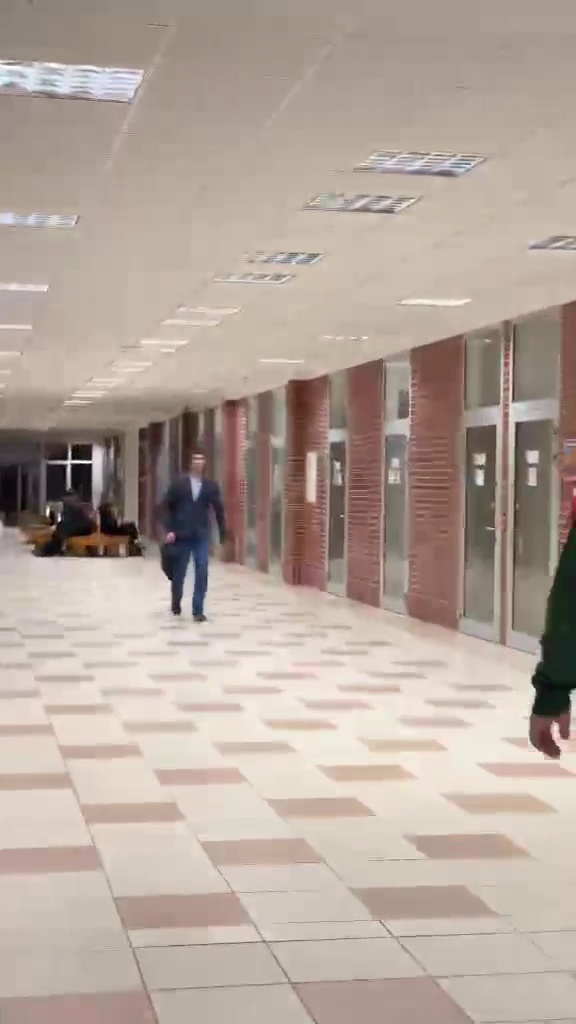no vest: (153, 452, 229, 626)
